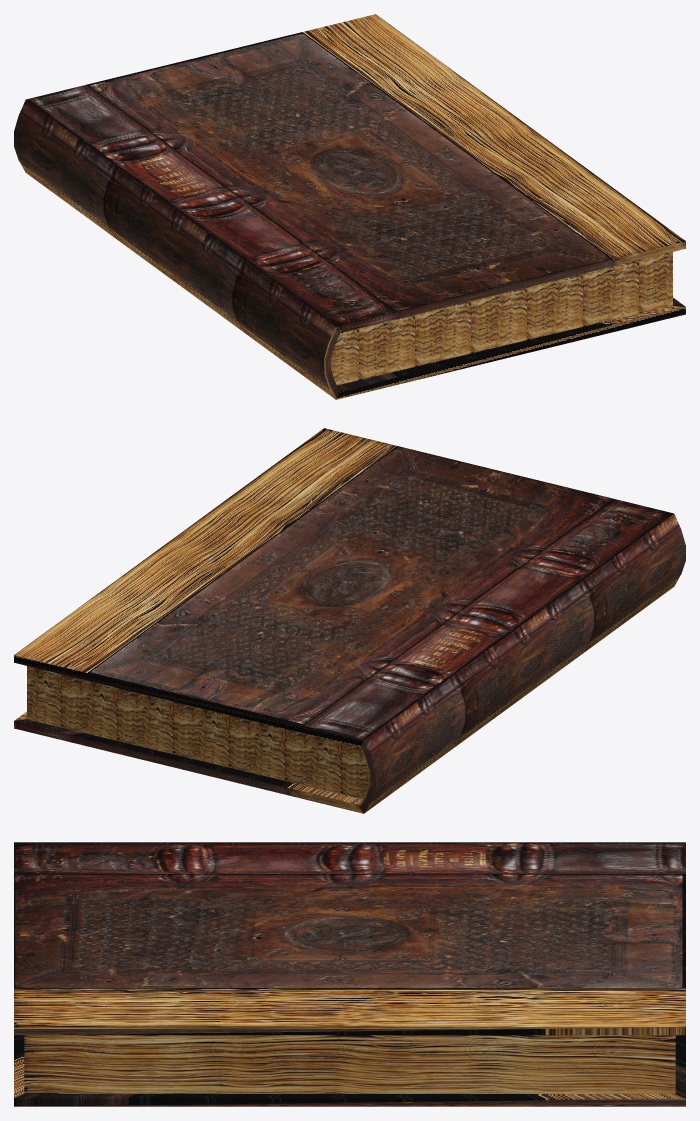
File: old_blue_book.glb
3 renders of one model, top to bottom at view 1: azimuth 30°, elevation 25°; view 2: azimuth 150°, elevation 25°; view 3: azimuth 270°, elevation 25°, orthographic. The views are drawn at different scales.
Parts seen in each view (by area): view 1: Box001; view 2: Box001; view 3: Box001.
Part boxes in pixels (x1,y1,x2,y2): Box001: [14, 14, 685, 399]; Box001: [14, 428, 685, 813]; Box001: [14, 842, 685, 1106].
Bounding box in the file's own units: 50.33 × 9.74 × 74.75.
Materials: 3 (3 with a texture image).
